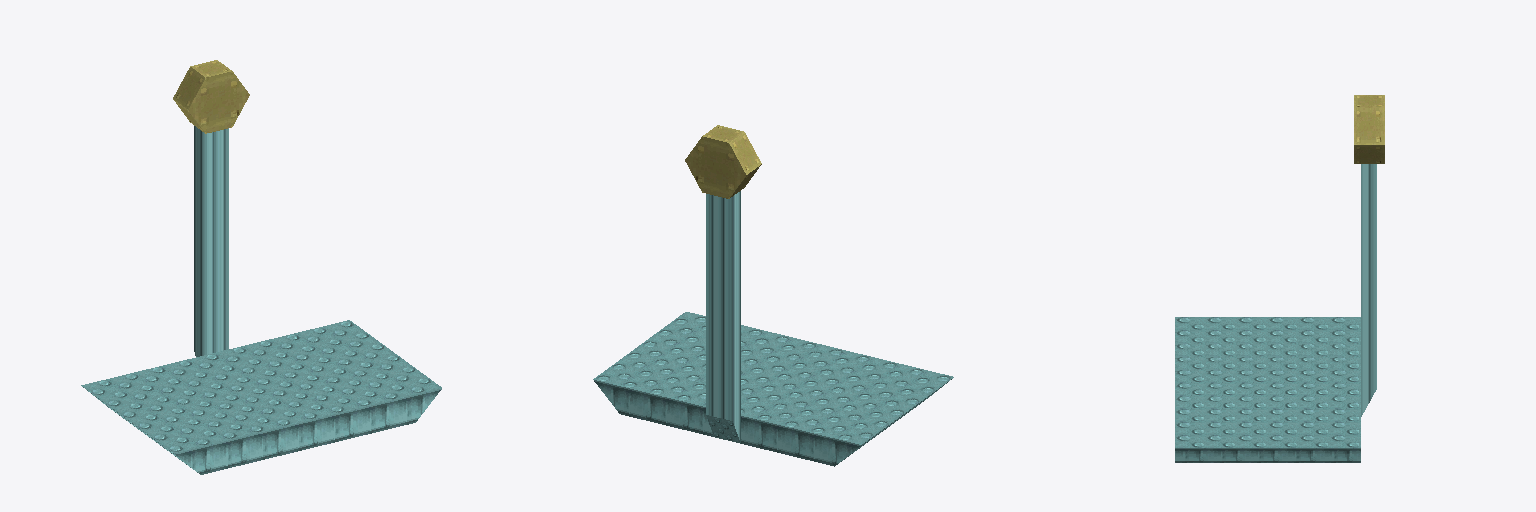
3 views of the same model, side by side, from view 1: azimuth 30°, elevation 25°; view 2: azimuth 150°, elevation 25°; view 3: azimuth 270°, elevation 25° (orthographic).
Parts seen in each view (by area): view 1: polygon0, polygon1, polygon2; view 2: polygon0, polygon1, polygon2; view 3: polygon0, polygon1, polygon2.
Boxes of the visible parts, x1,y1,x2,y2 form: polygon0: [81, 320, 441, 452]; polygon1: [83, 126, 441, 474]; polygon2: [173, 60, 249, 133]; polygon0: [593, 312, 953, 444]; polygon1: [594, 191, 951, 466]; polygon2: [685, 125, 761, 198]; polygon0: [1175, 317, 1360, 447]; polygon1: [1175, 164, 1376, 462]; polygon2: [1354, 95, 1384, 163].
Size of the model in its own units: 125 by 138 by 84.38.
Materials: 3 (3 with a texture image).